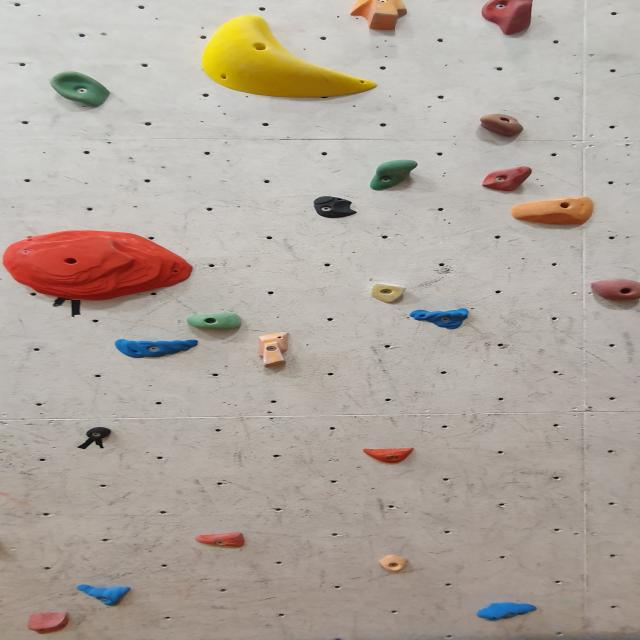Crimp: (2, 234, 198, 302), (111, 338, 203, 358), (408, 309, 472, 330), (474, 601, 540, 621), (76, 585, 137, 606), (360, 448, 420, 464), (192, 532, 248, 548), (369, 283, 409, 304), (377, 555, 411, 573)
Jug: (47, 72, 117, 110), (479, 0, 538, 38), (368, 160, 421, 192), (479, 167, 535, 192), (475, 114, 527, 139), (589, 278, 640, 302), (184, 312, 244, 332)
Pinch: (247, 330, 299, 374), (347, 0, 411, 24), (78, 423, 114, 444)
Sloper: (199, 15, 380, 100), (508, 198, 598, 228), (24, 612, 73, 636), (310, 198, 361, 220)
